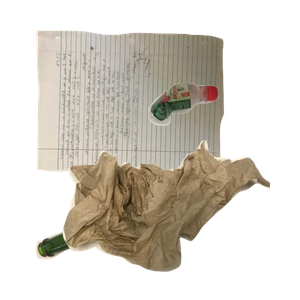glass: (33, 158, 246, 300)
paper: (32, 28, 249, 196)
plastic: (146, 80, 300, 198)
trash: (60, 138, 300, 300)
